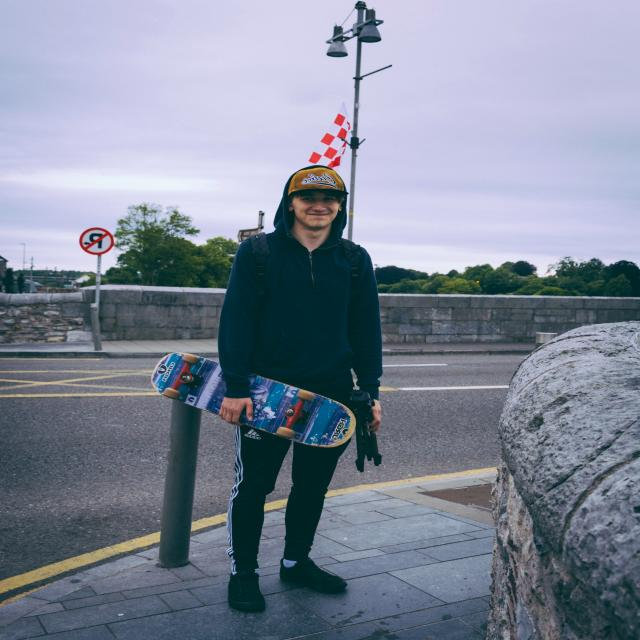adult: (210, 168, 396, 614)
